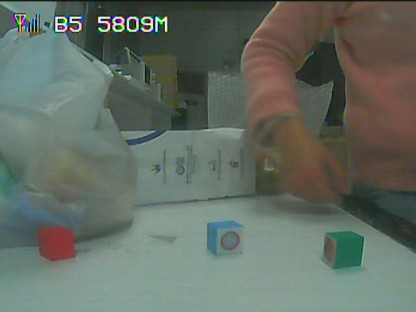b: (207, 222, 237, 252)
g: (325, 234, 362, 265)
r: (38, 226, 72, 259)
